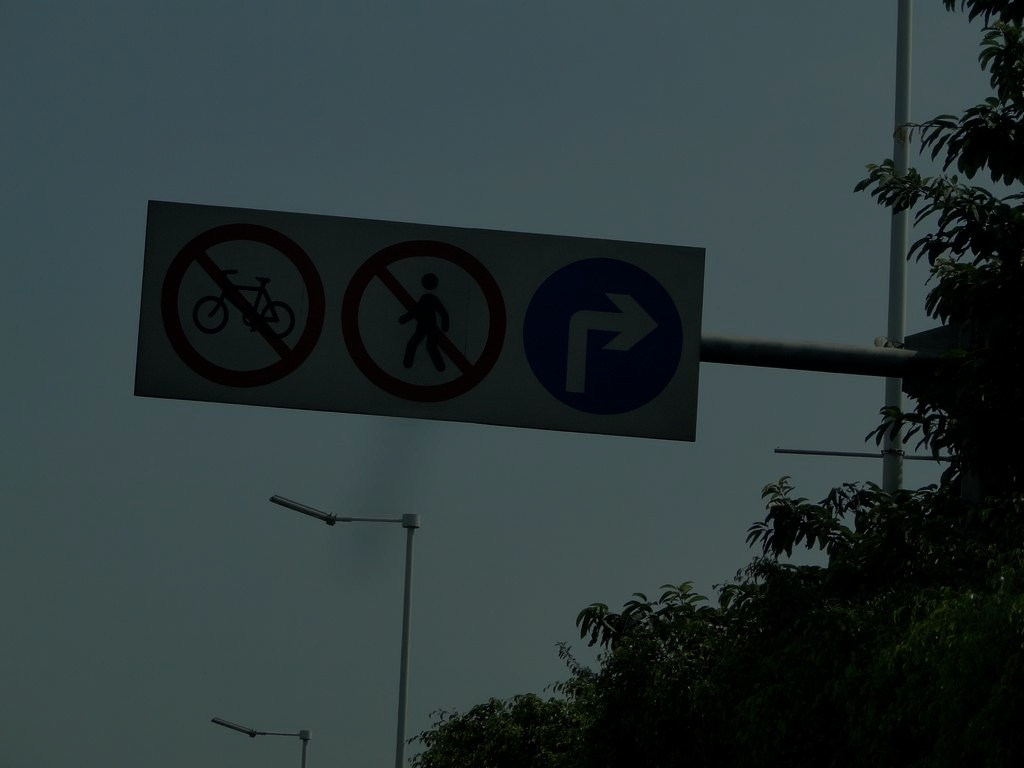Informative Signs: (520, 255, 687, 420)
Prohibitory Signs: (157, 220, 330, 391), (339, 238, 510, 407)
